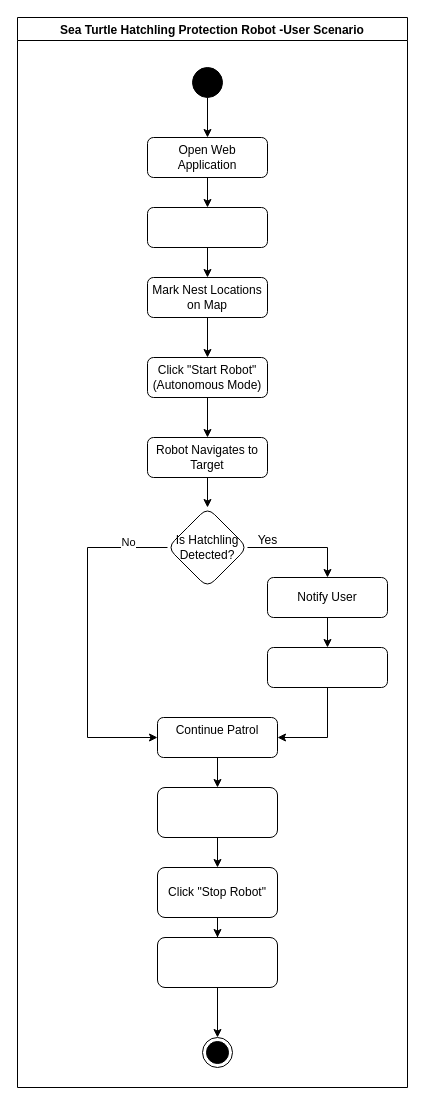
Image size: 425x1105. Some labels were removed from this diagram. Each missing label, with the centre of its shape:
"Login / Access Interface" belongs at (x=207, y=227).
"Save Data & Close Session" belongs at (x=217, y=962).
"Sound Buzzer" belongs at (x=327, y=667).
"Track Robot from Web (Live GPS & Logs)" belongs at (x=217, y=812).
